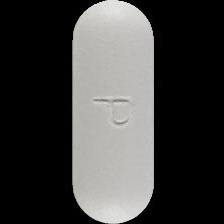16571-413: (0, 0, 224, 224)
